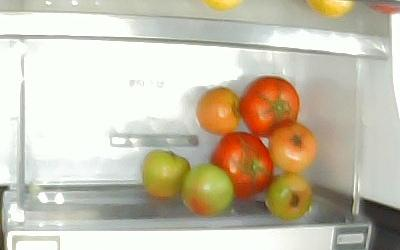tomato: (211, 130, 272, 200), (239, 75, 299, 137), (182, 163, 232, 217), (270, 123, 316, 173), (266, 173, 313, 221), (143, 149, 190, 197), (197, 87, 239, 136)
